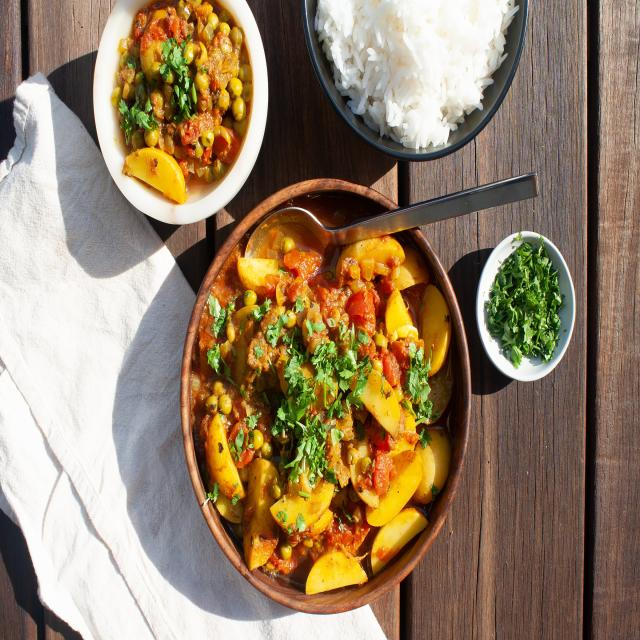aloo_gobi: (223, 264, 430, 562), (143, 16, 231, 172)
rice: (321, 0, 508, 156)
